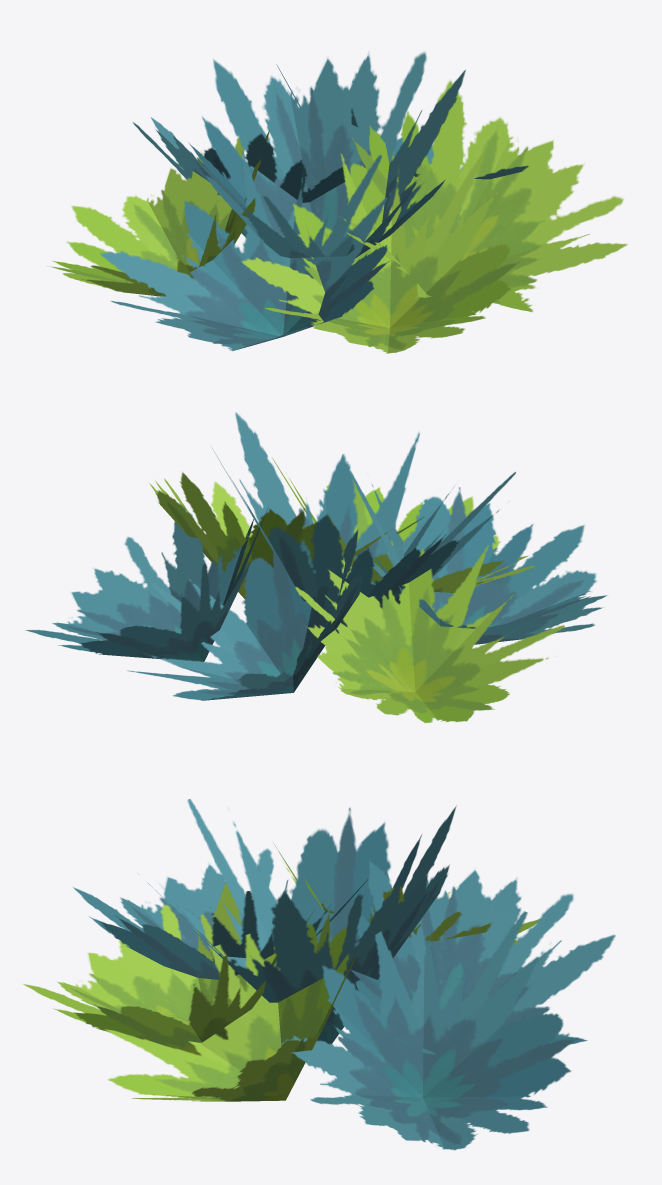
File: Plant_11.glb
3 renders of one model, top to bottom at view 1: azimuth 30°, elevation 25°; view 2: azimuth 150°, elevation 25°; view 3: azimuth 270°, elevation 25°, orthographic. The views are drawn at different scales.
Visible parts, largest first — view 1: Plant_11; view 2: Plant_11; view 3: Plant_11.
Part boxes in pixels (x1=…): Plant_11: x1=47, y1=52, x2=627, y2=353; Plant_11: x1=25, y1=412, x2=607, y2=722; Plant_11: x1=23, y1=799, x2=615, y2=1150.
Size of the model in its own units: 1.28 by 0.4986 by 1.2.
Materials: 1 (1 with a texture image).
